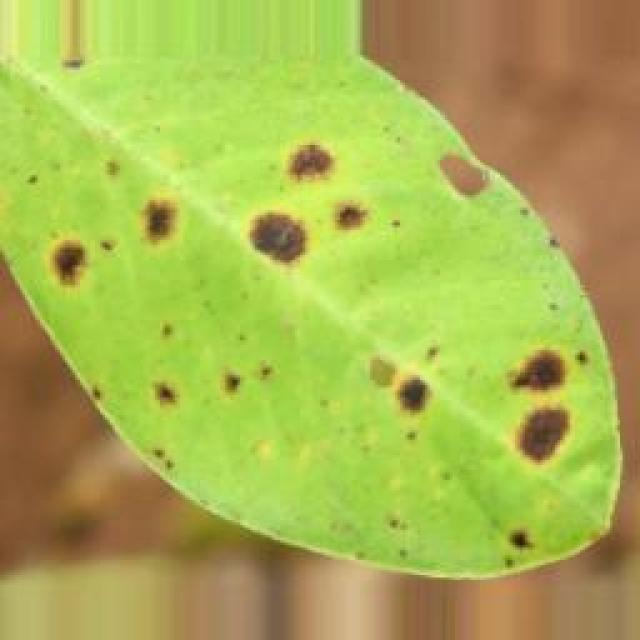Yellowish: (12, 100, 630, 574)
